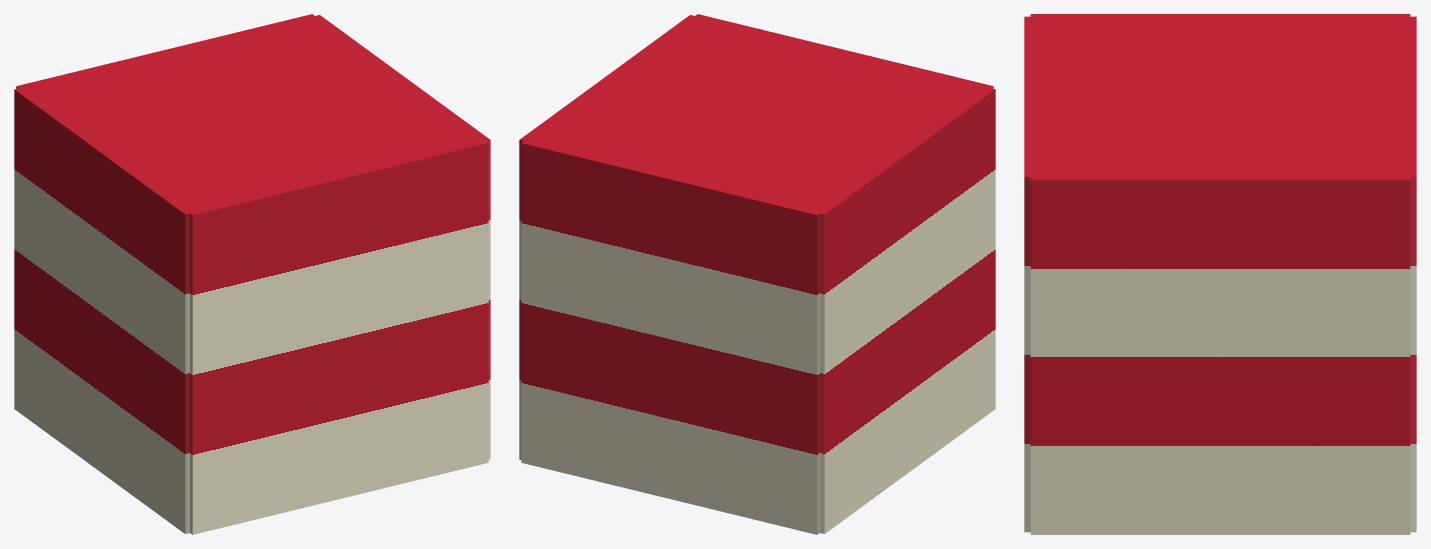
Rendered from lighthouse_testao.fezao.glb.
3 renders of one model, left to right at view 1: azimuth 30°, elevation 25°; view 2: azimuth 150°, elevation 25°; view 3: azimuth 270°, elevation 25°, orthographic. The views are drawn at different scales.
Visible parts, largest first — view 1: LIGHTHOUSE_TESTAO; view 2: LIGHTHOUSE_TESTAO; view 3: LIGHTHOUSE_TESTAO.
Boxes of the visible parts, bbox=[...] form: LIGHTHOUSE_TESTAO: bbox=[14, 14, 490, 534]; LIGHTHOUSE_TESTAO: bbox=[519, 14, 995, 534]; LIGHTHOUSE_TESTAO: bbox=[1024, 14, 1416, 534].
Size of the model in its own units: 4 by 4 by 4.
Materials: 1 (1 with a texture image).
